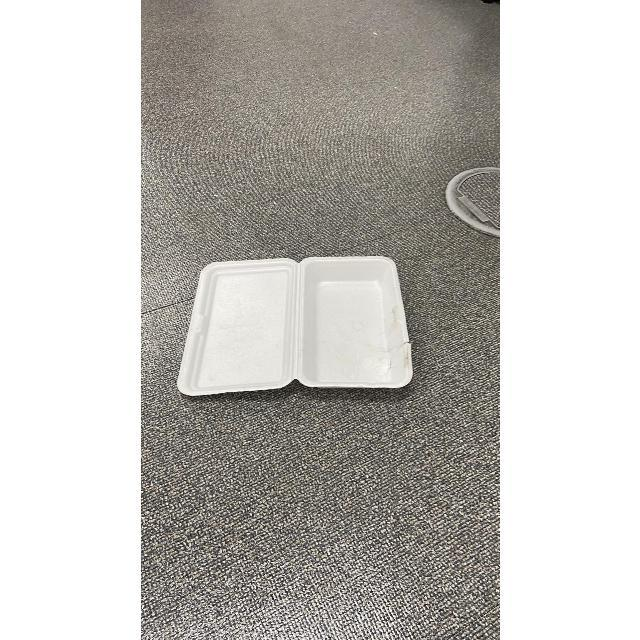Plastico descartable: (178, 257, 414, 400)
